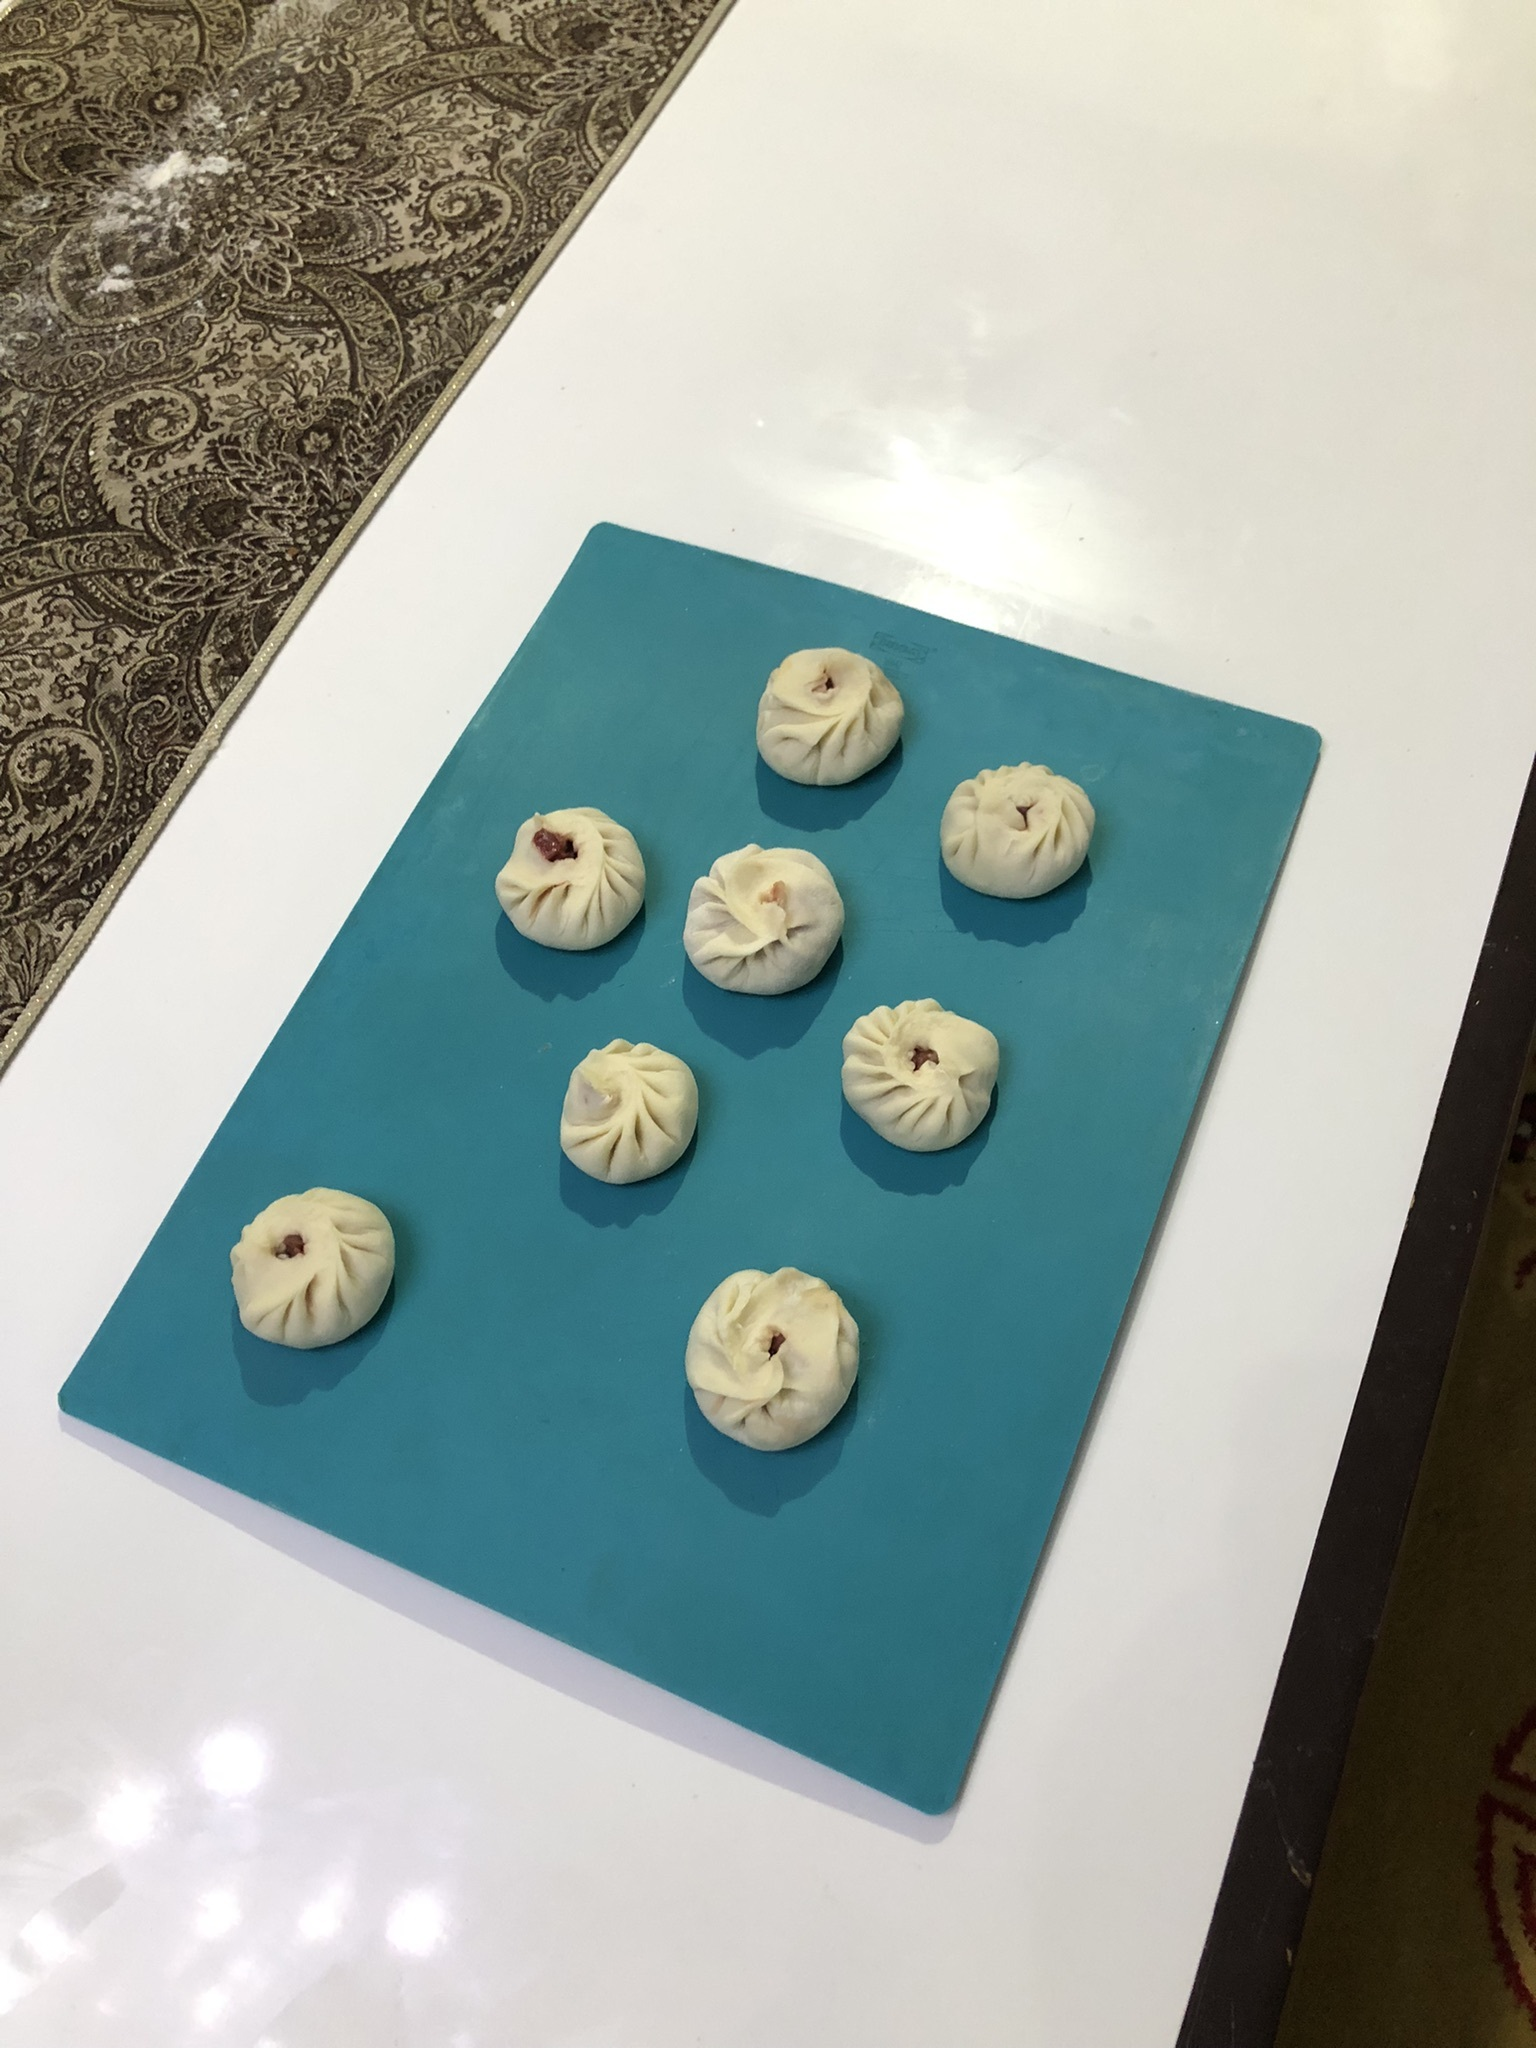buuz: (668, 1258, 874, 1459), (223, 1180, 408, 1367), (829, 990, 1010, 1159), (674, 835, 854, 1005), (742, 631, 916, 798), (933, 747, 1104, 910), (490, 801, 655, 959), (555, 1030, 712, 1193)
